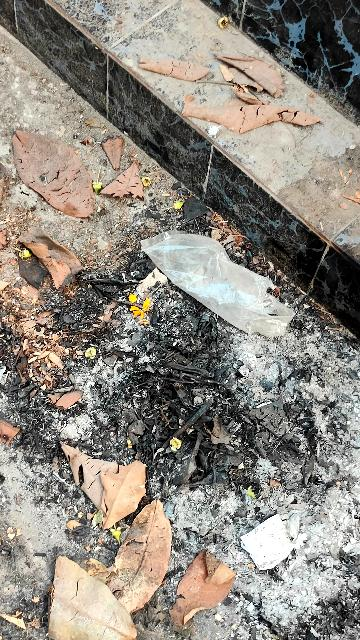polythene: (127, 226, 291, 346)
